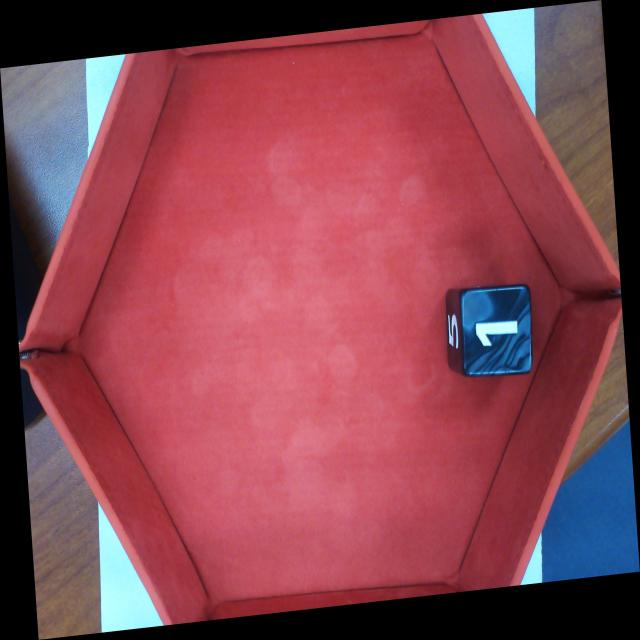dice: (458, 281, 534, 379)
